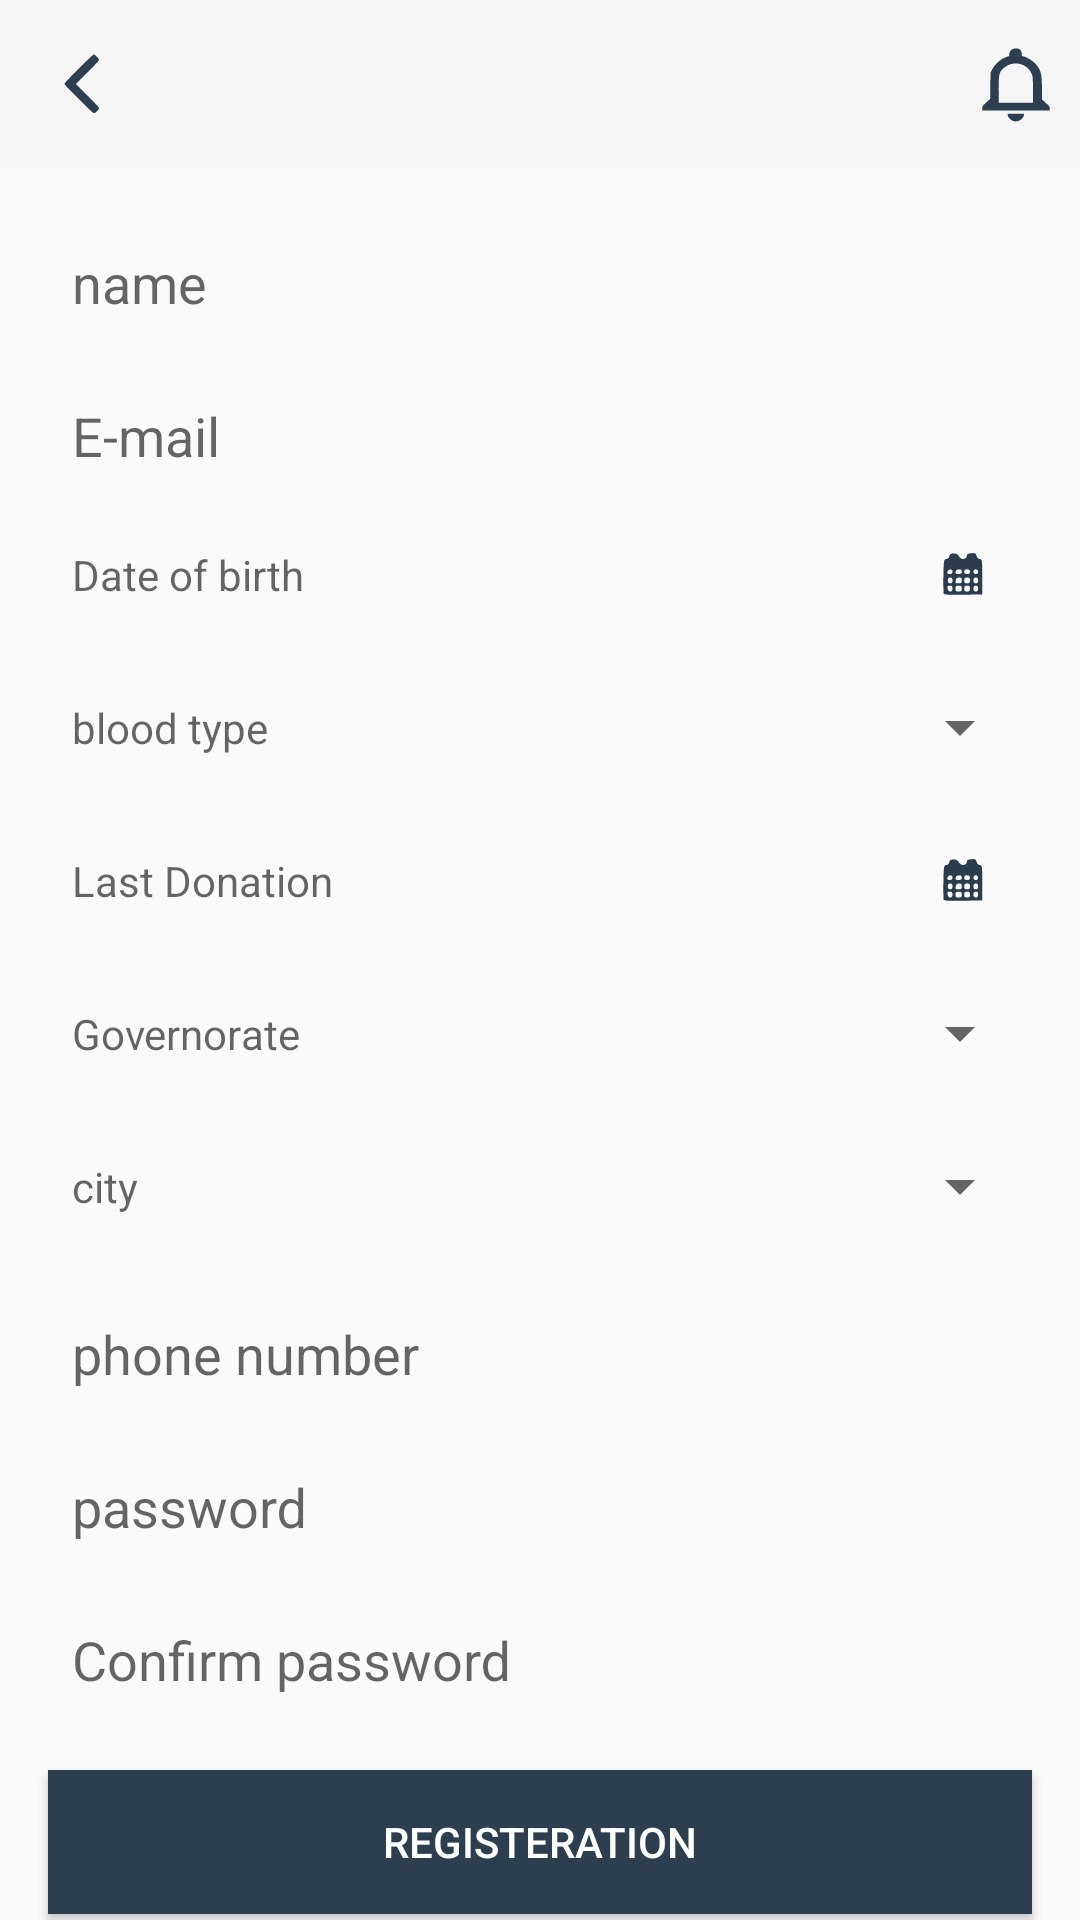

Point at icon controls on the screen. Image size 1080*1920, points as (x,y).
leftarrow: (81,83)
notfications: (1016,85)
